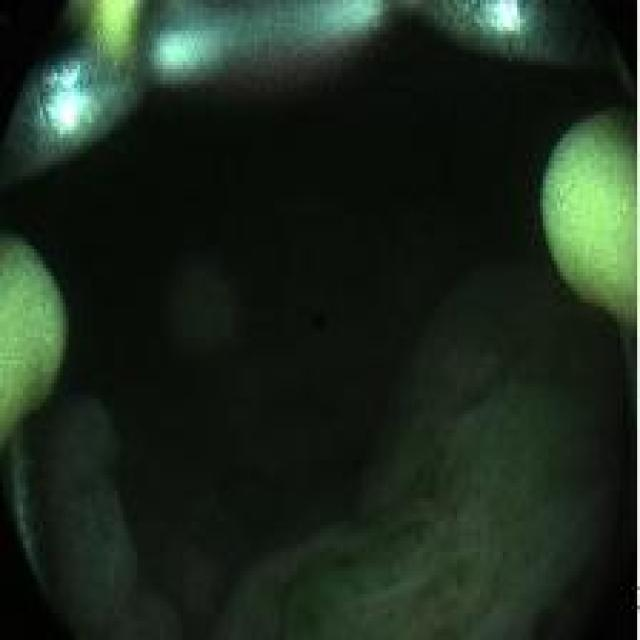color misalignment: (1, 1, 636, 638), (533, 101, 636, 337), (143, 3, 392, 86), (0, 231, 68, 445), (58, 0, 136, 64)
contrast: (72, 165, 626, 635)
instrument: (3, 4, 143, 187), (533, 102, 636, 336), (144, 1, 400, 89), (400, 2, 636, 97), (1, 231, 69, 442)
specularity: (43, 88, 87, 135), (488, 2, 526, 41)
